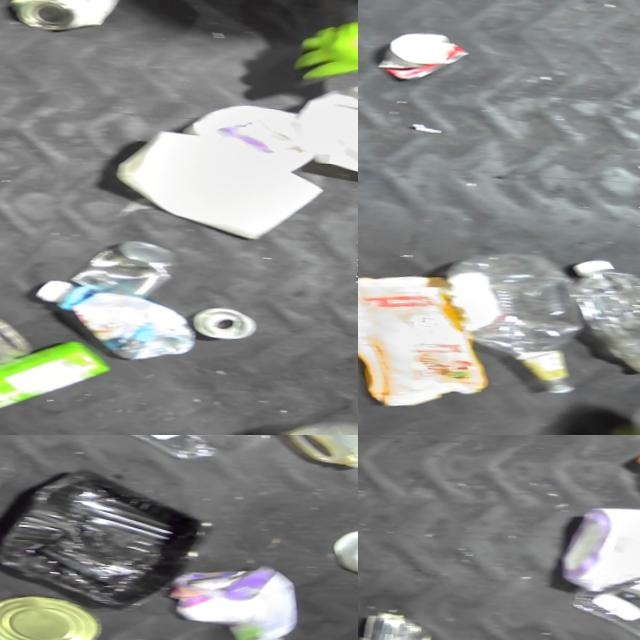can: (74, 232, 182, 298), (0, 590, 104, 640), (12, 0, 117, 31), (358, 609, 434, 640)
milk_jug: (181, 96, 321, 177)
non_white_jug: (165, 555, 304, 640), (0, 332, 109, 435), (560, 497, 640, 596), (229, 435, 358, 465)
plastic_bottle: (443, 244, 579, 390), (569, 254, 640, 373)
